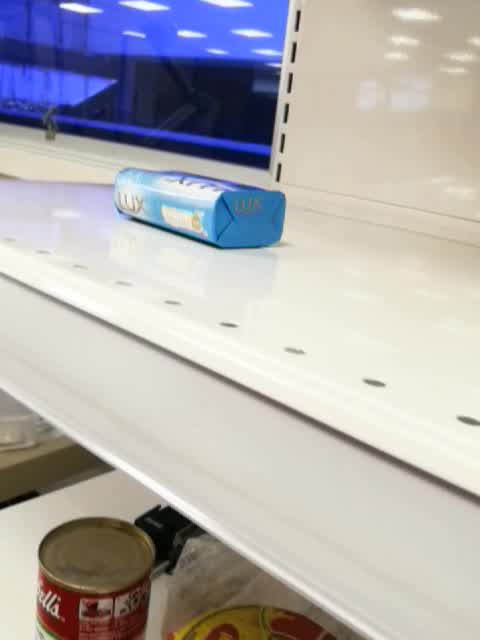soap: (112, 165, 286, 251)
